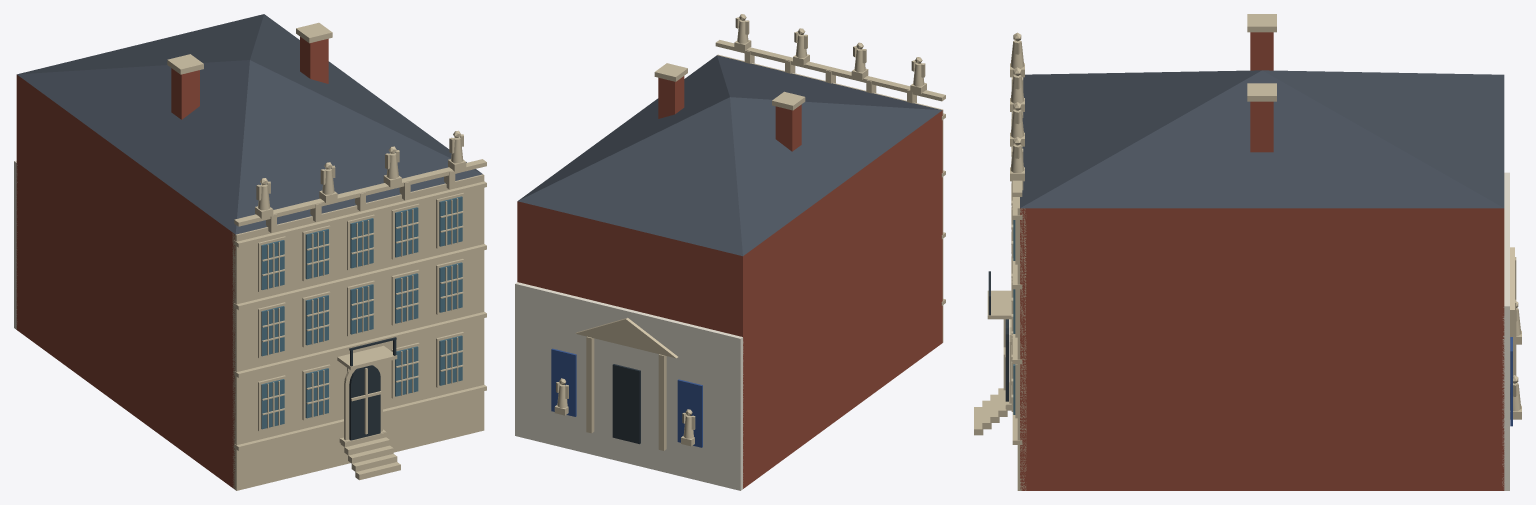
Rendered from museum-van-loon.glb.
3 renders of one model, left to right at view 1: azimuth 30°, elevation 25°; view 2: azimuth 150°, elevation 25°; view 3: azimuth 270°, elevation 25°, orthographic. The views are drawn at different scales.
Parts seen in each view (by area): view 1: museum-van-loon; view 2: museum-van-loon; view 3: museum-van-loon.
Boxes of the visible parts, x1,y1,x2,y2 form: museum-van-loon: [14, 14, 486, 490]; museum-van-loon: [515, 14, 945, 490]; museum-van-loon: [974, 14, 1521, 490].
Size of the model in its own units: 14.95 by 19.2 by 25.81.
